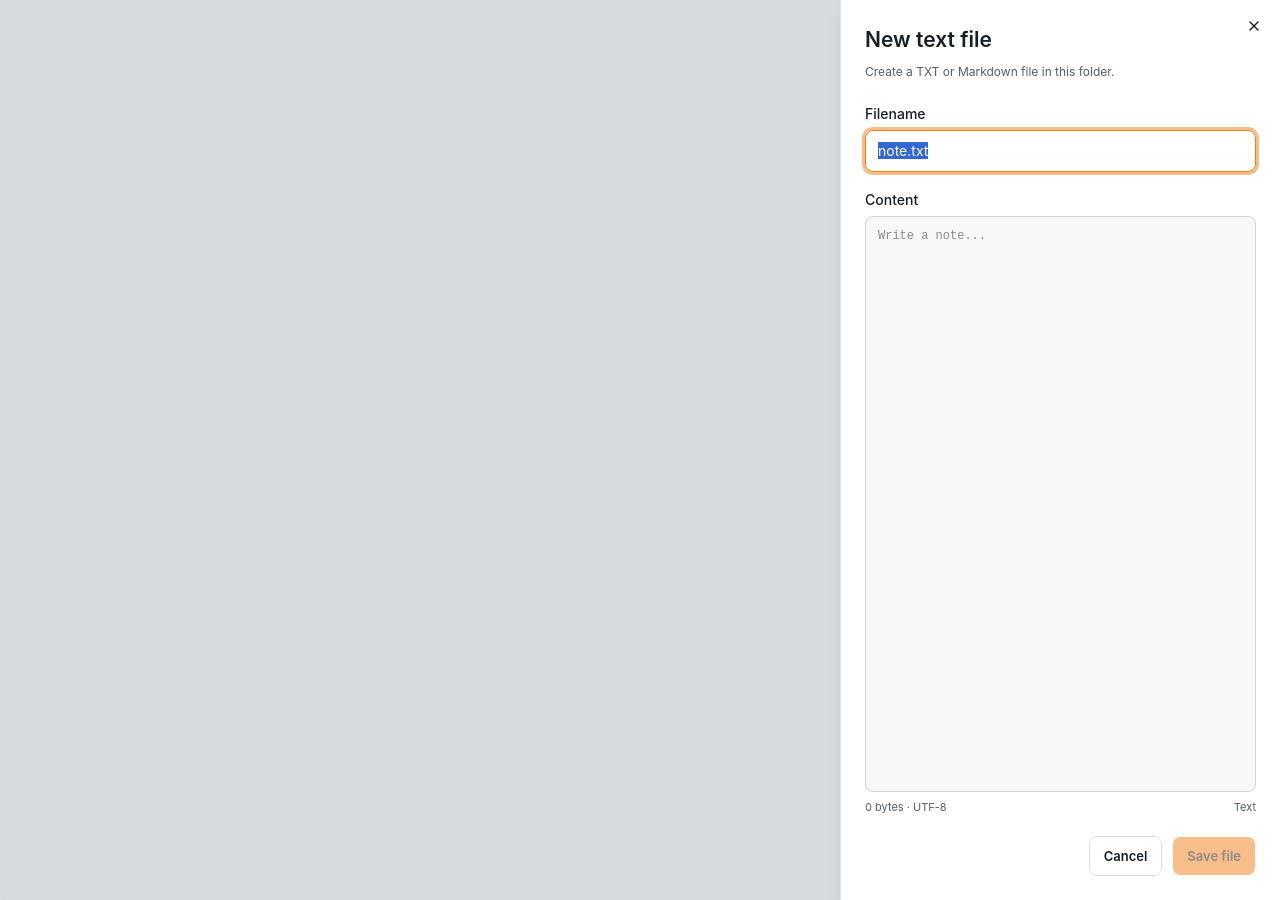
Test: TextPadDrawer › asks before discarding unsaved changes
Type "draft" into the text box with test id "textpad-body".
click(1060, 504); type("draft")  # box [865,216,1256,792]
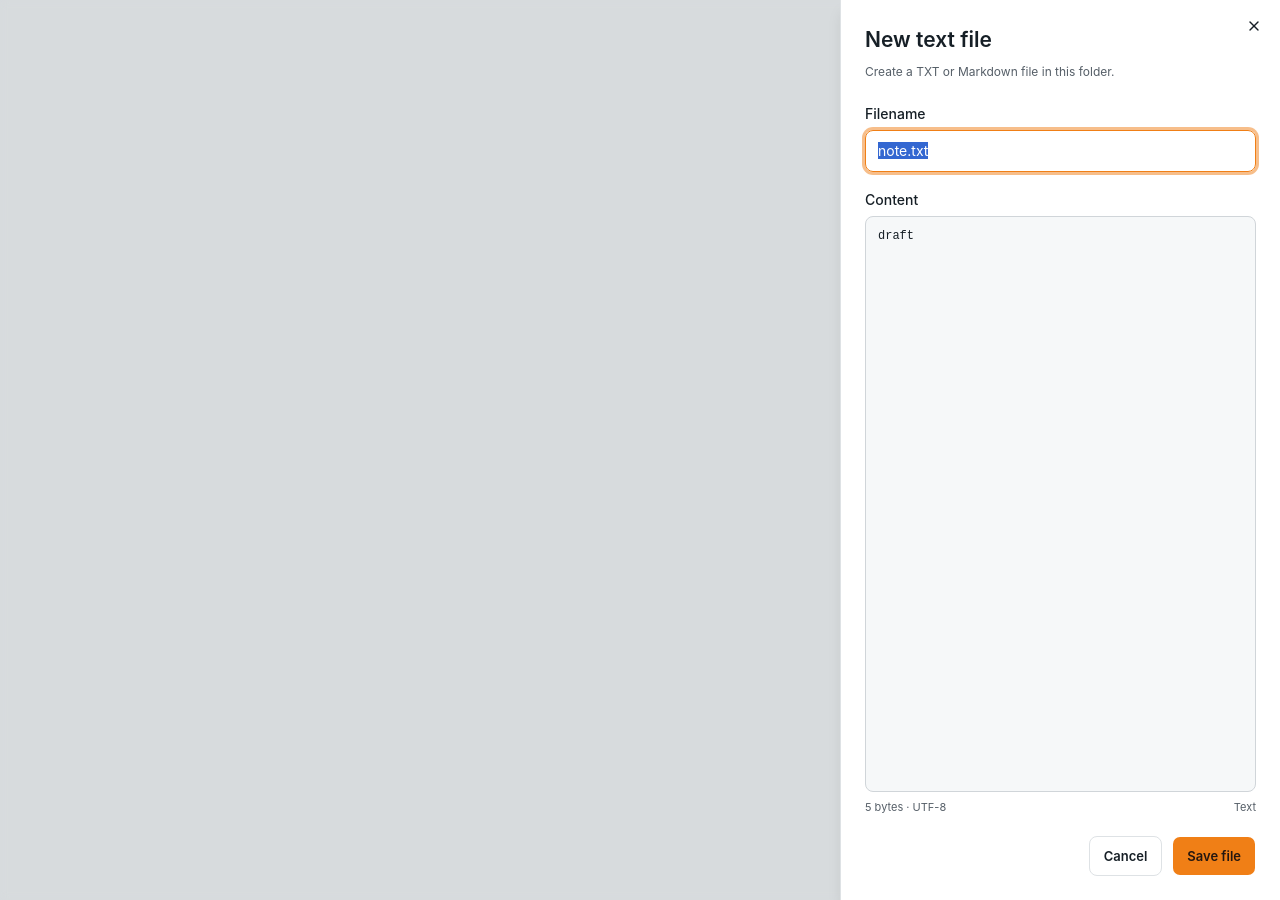
Click the button named "close".
click(1254, 26)  # box [1240,12,1268,40]
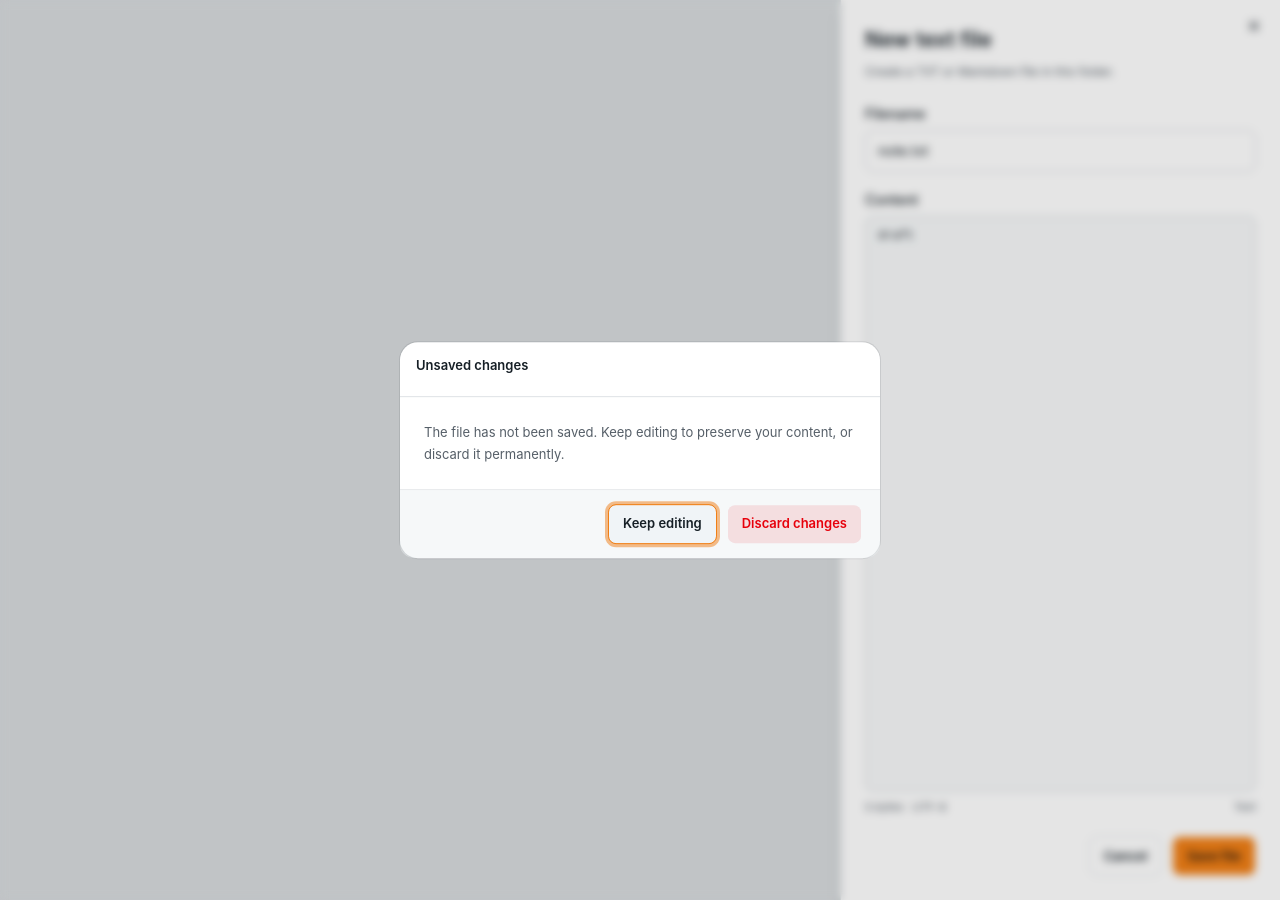
Expected: the heading "Unsaved changes" is shown, [416,356,528,376]
